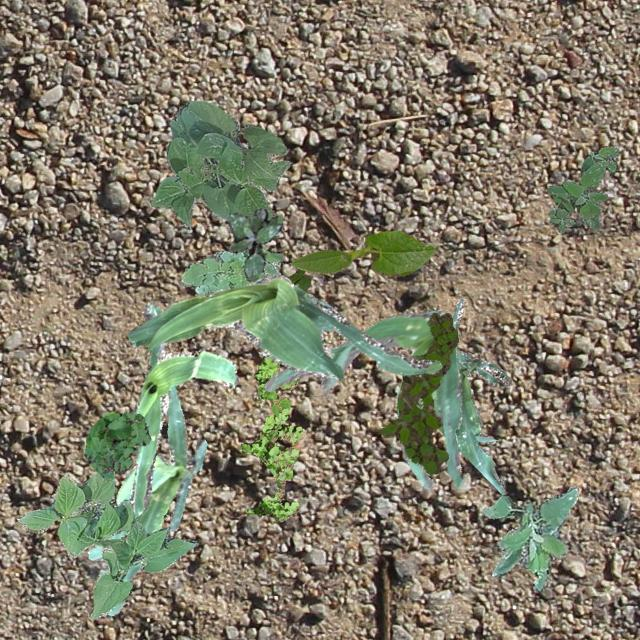crop: (264, 308, 462, 488), (126, 274, 444, 378), (86, 383, 206, 614), (15, 468, 196, 618), (128, 302, 238, 516), (418, 296, 510, 494), (150, 100, 290, 228), (288, 228, 434, 276)
weed: (378, 312, 458, 474), (240, 354, 304, 520), (482, 486, 576, 592), (546, 144, 618, 232), (180, 248, 282, 294), (84, 410, 150, 480), (226, 208, 282, 282), (286, 268, 310, 288)
